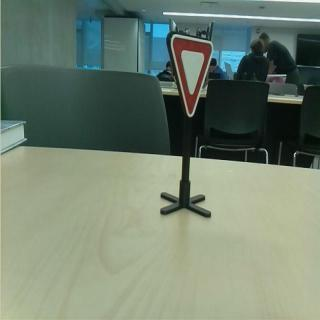sign_yield: (169, 34, 215, 120)
